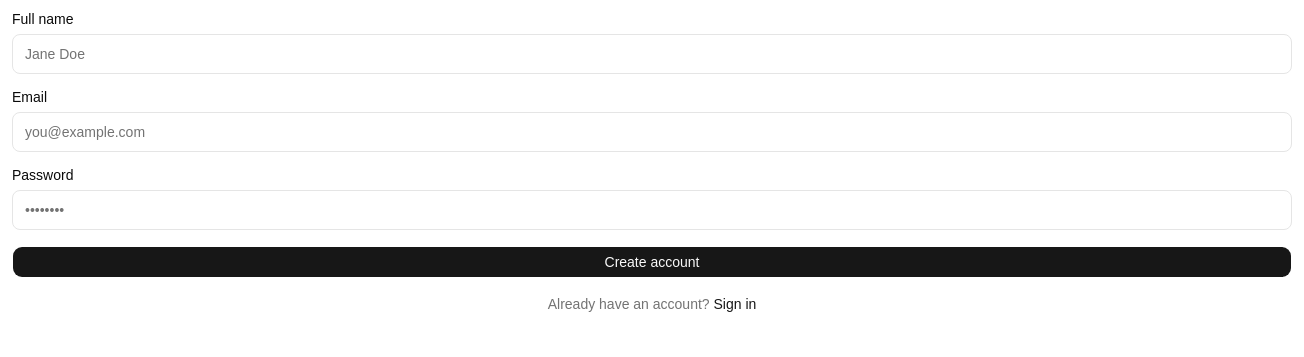
Scenario: RegisterForm › shows EMAIL_EXISTS error on email field
Type "Test User" into the field labelled "Full name" at x=652, y=54, box 12,34 -> 1292,74
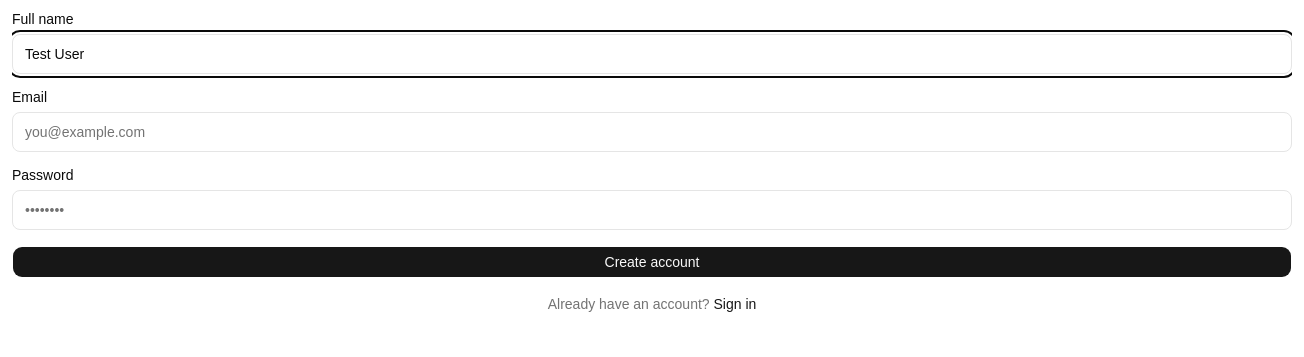
Type "dupe@test.com" into the field labelled "Email" at x=652, y=132, box 12,112 -> 1292,152
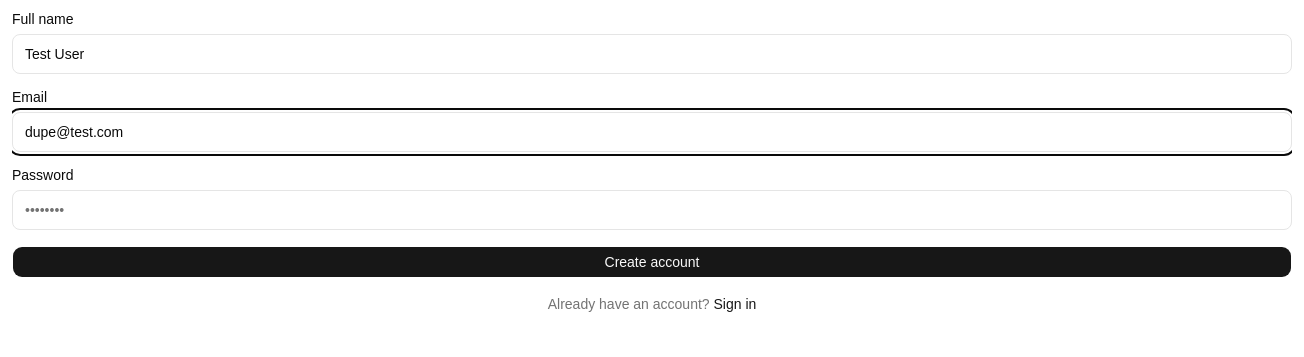
Type "Str0ngP@ss!" into the password field labelled "Password" at x=652, y=210, box 12,190 -> 1292,230
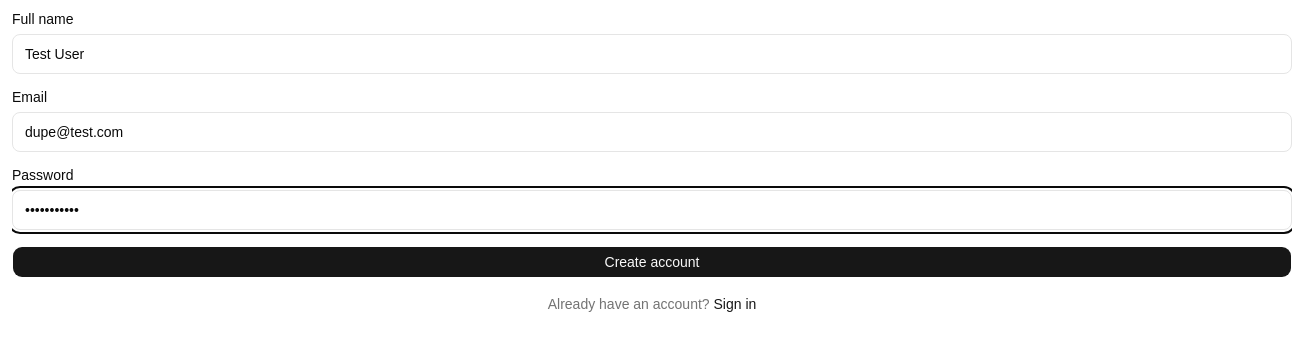
Click the button "Create account" at x=652, y=262, box 12,246 -> 1292,278
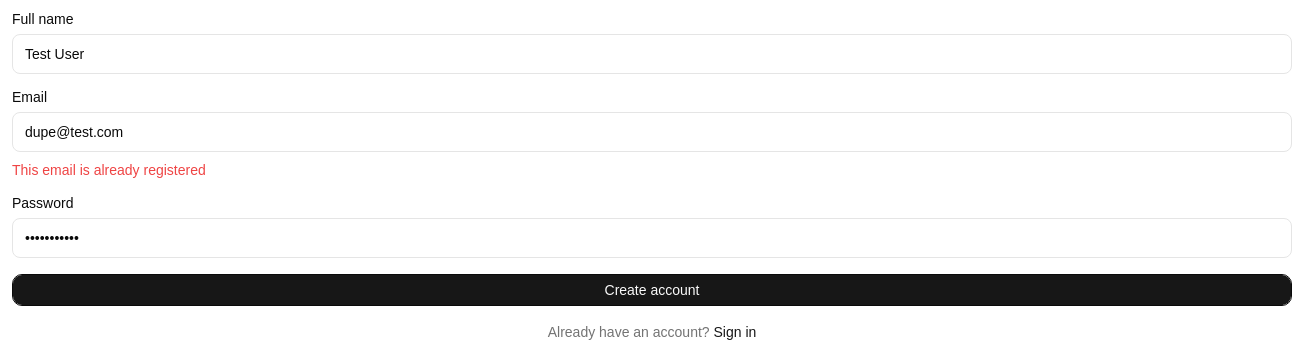
Expected: the text "This email is already registered" is shown, 12,162 -> 206,178
